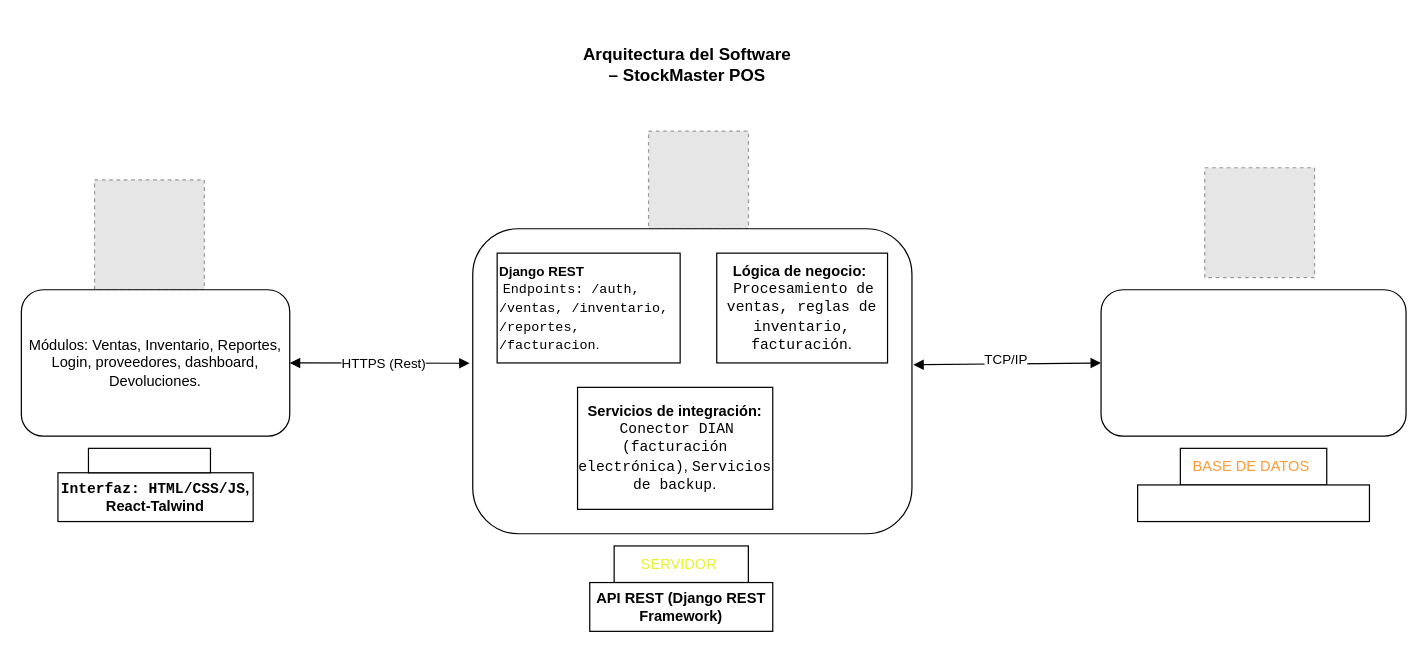
The diagram is 1427 pixels wide and 653 high, and some of its shapes have lost their labels. Grey dashed boxes stand in for pictures. The centre of each missing label's shape, as x and y in pixels:
Cliente: (148,460)
MySQL: (1252,503)
Tablas: Usuarios, Productos, Ventas, Proveedores, Reportes, Logs: (1253,362)
